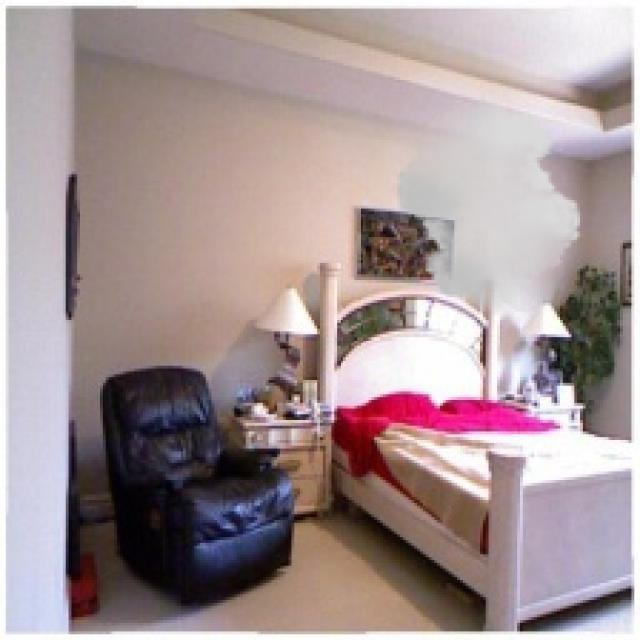Smoke: (388, 94, 588, 317)
